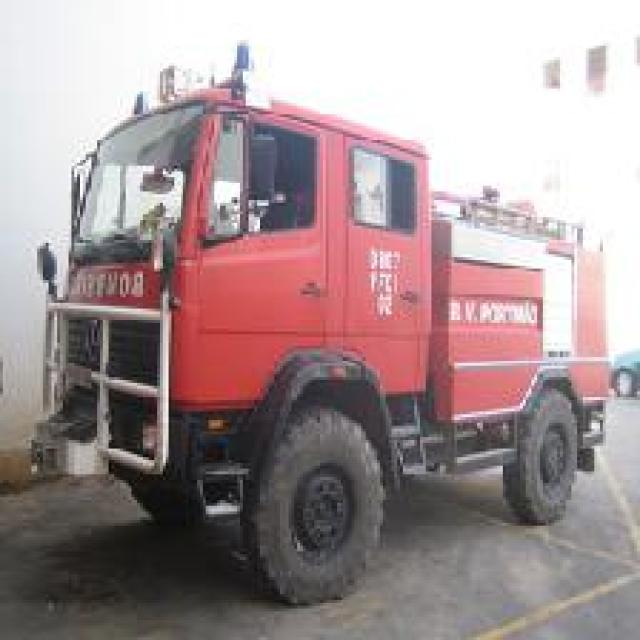Car: (609, 337, 637, 397)
Fire-truck: (29, 37, 614, 606)
